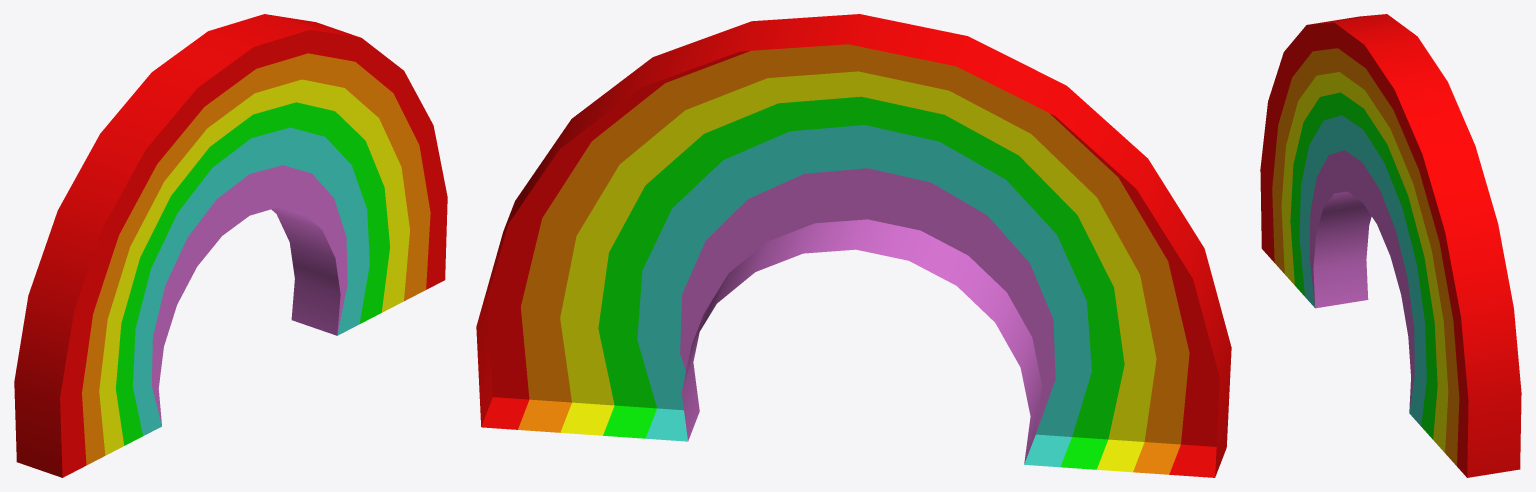
File: Rainbow.dae
The picture shows the model from 3 angles, left to right: view 1: azimuth 30°, elevation 25°; view 2: azimuth 150°, elevation 25°; view 3: azimuth 270°, elevation 25°; orthographic projection. The views are drawn at different scales.
Parts seen in each view (by area): view 1: Model; view 2: Model; view 3: Model.
Boxes of the visible parts, x1,y1,x2,y2 form: Model: [14, 14, 447, 477]; Model: [476, 14, 1231, 477]; Model: [1260, 14, 1521, 477].
Size of the model in its own units: 385 by 176 by 237.
